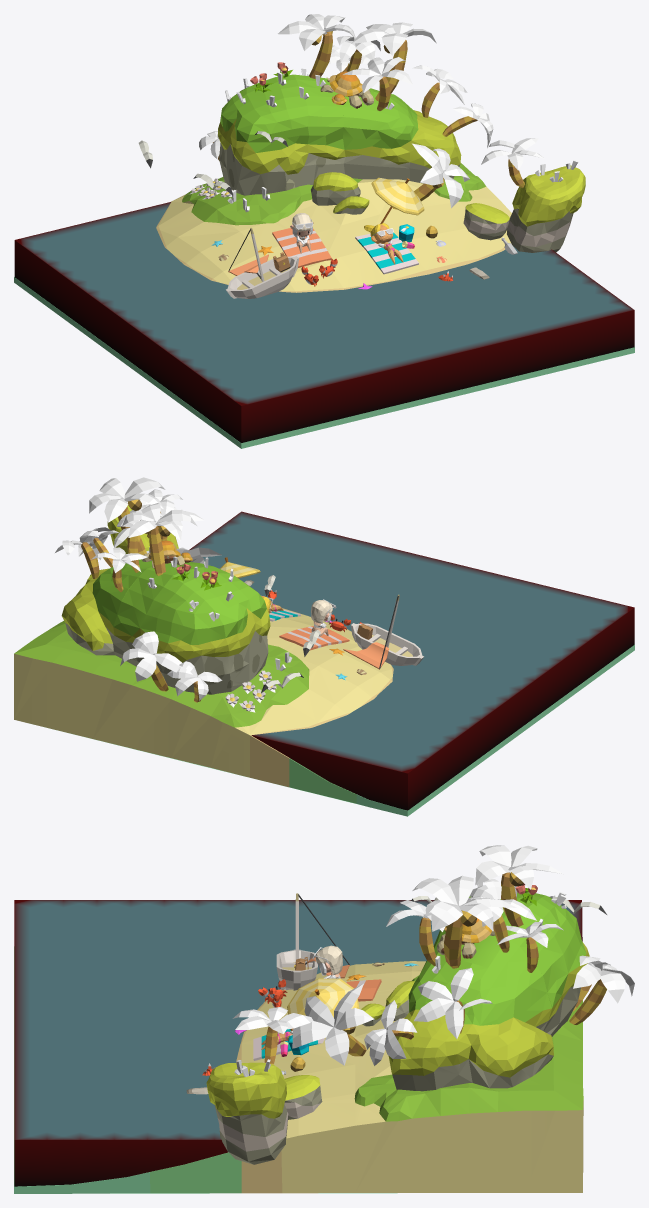
File: 0010_paradiceIsland.fbx
The picture shows the model from 3 angles, top to bottom: view 1: azimuth 30°, elevation 25°; view 2: azimuth 150°, elevation 25°; view 3: azimuth 270°, elevation 25°; orthographic projection. The views are drawn at different scales.
Visible parts, largest first — view 1: [water], sand, Big_rock001, big_rock002, rock_middle, ship, rock_small, rock_small2, parasol, beach_rug, beach_rug2, turtle_backSkin; view 2: [water], sand, Big_rock001, big_rock002, ship, beach_rug, mast, palm_body1, rock_middle; view 3: [water], sand, big_rock002, rock_middle, Big_rock001, leaf4_1 (×3), ship, parasol, rock_small, palm_body1 (×2), leaf5_1 (×2), leaf1_1 (×2) (+10 smaller).
Part boxes in pixels (left/top/right/bottom): [water]: left=14, top=202, right=634, bottom=442; sand: left=14, top=163, right=634, bottom=448; Big_rock001: left=218, top=74, right=345, bottom=195; big_rock002: left=343, top=88, right=461, bottom=183; rock_middle: left=507, top=165, right=585, bottom=252; ship: left=226, top=227, right=299, bottom=298; rock_small: left=463, top=203, right=509, bottom=240; rock_small2: left=311, top=172, right=360, bottom=205; parasol: left=371, top=177, right=424, bottom=223; beach_rug: left=272, top=228, right=331, bottom=267; beach_rug2: left=355, top=232, right=418, bottom=274; turtle_backSkin: left=329, top=71, right=362, bottom=96; [water]: left=189, top=511, right=634, bottom=810; sand: left=14, top=608, right=634, bottom=816; Big_rock001: left=113, top=562, right=270, bottom=694; big_rock002: left=61, top=559, right=152, bottom=655; ship: left=351, top=594, right=423, bottom=665; beach_rug: left=279, top=626, right=349, bottom=650; mast: left=343, top=596, right=398, bottom=669; palm_body1: left=149, top=526, right=165, bottom=575; rock_middle: left=107, top=505, right=178, bottom=553; [water]: left=14, top=900, right=582, bottom=1186; sand: left=14, top=946, right=583, bottom=1193; big_rock002: left=388, top=935, right=553, bottom=1091; rock_middle: left=206, top=1062, right=288, bottom=1164; Big_rock001: left=433, top=892, right=589, bottom=1036; leaf4_1 (×3): left=325, top=860, right=510, bottom=1065; ship: left=276, top=893, right=317, bottom=990; parasol: left=287, top=978, right=359, bottom=1017; rock_small: left=284, top=1075, right=322, bottom=1119; palm_body1 (×2): left=444, top=872, right=523, bottom=968; leaf5_1 (×2): left=292, top=878, right=457, bottom=1048; leaf1_1 (×2): left=304, top=875, right=473, bottom=1027.
Bounding box in the file's own units: 24.94 × 11.74 × 24.77.
